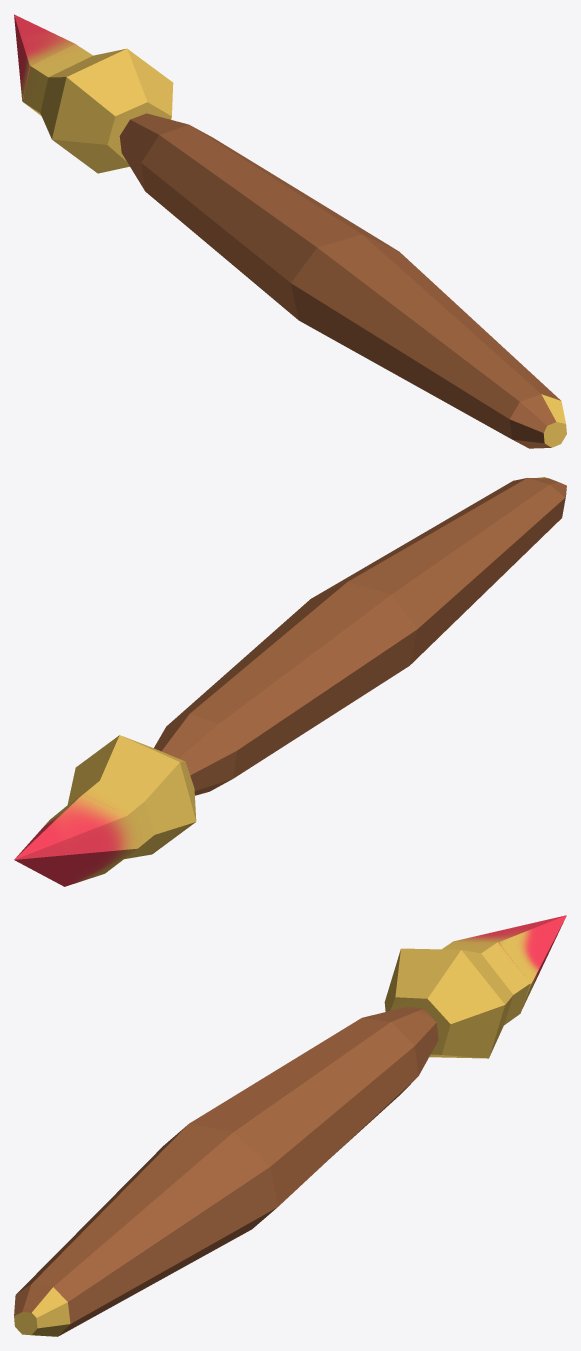
The model's file is Brush.fbx.
The picture shows the model from 3 angles, top to bottom: view 1: azimuth 30°, elevation 25°; view 2: azimuth 150°, elevation 25°; view 3: azimuth 330°, elevation 25°; orthographic projection. The views are drawn at different scales.
Parts seen in each view (by area): view 1: Brush; view 2: Brush; view 3: Brush.
Part boxes in pixels (box(x1,y1,x2,y2)): Brush: box(14, 14, 566, 448); Brush: box(14, 477, 566, 886); Brush: box(14, 915, 566, 1336).
Bounding box in the file's own units: 90.94 × 81.85 × 701.
Materials: 1 (1 with a texture image).
